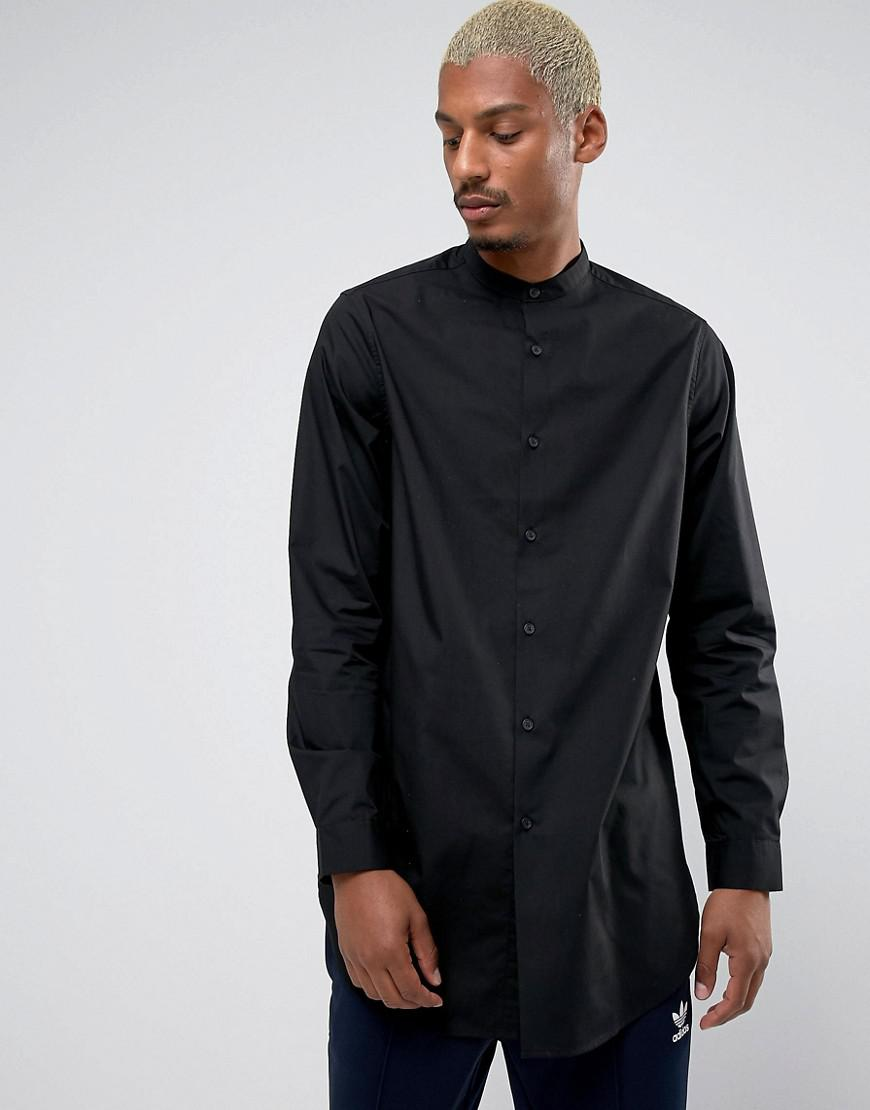teeshirt: (281, 239, 801, 1052)
